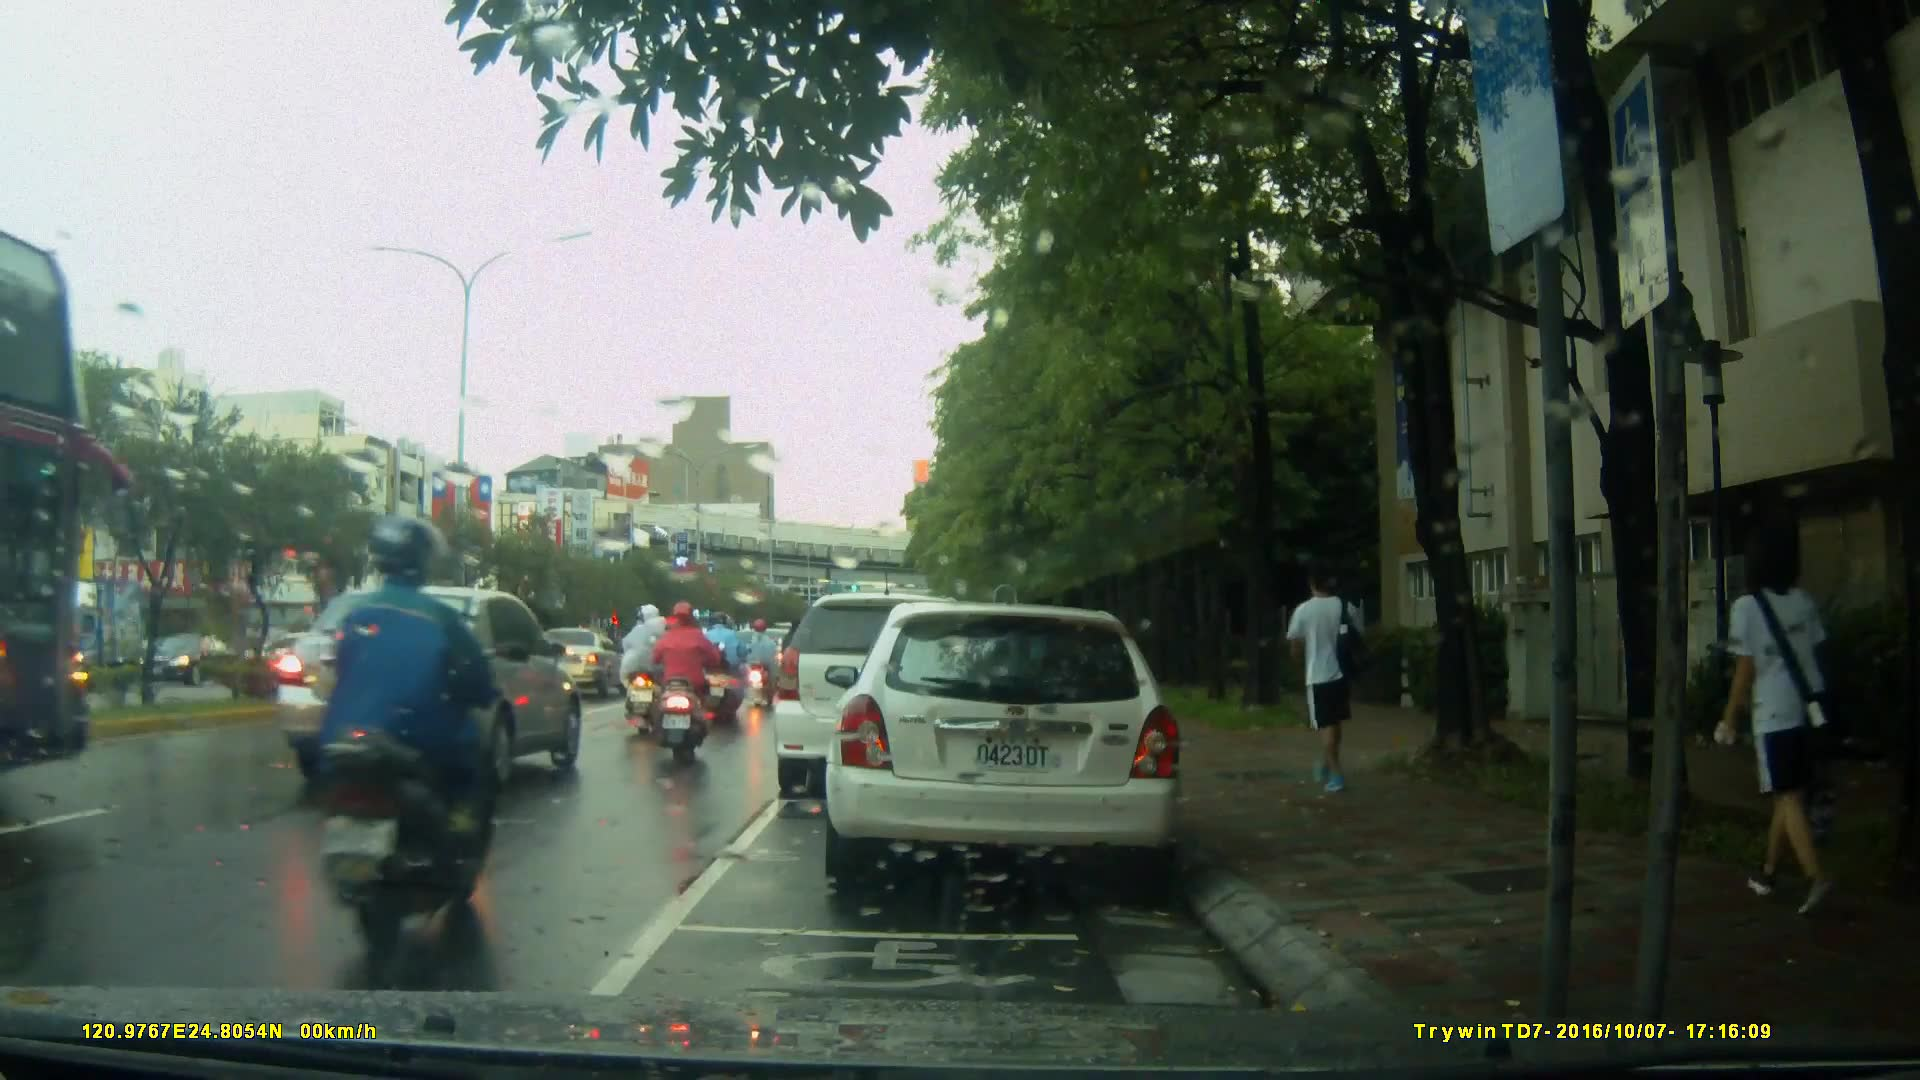pedestrian: (1714, 514, 1833, 921), (1290, 549, 1393, 814)
rider: (312, 514, 504, 959), (644, 603, 717, 771), (622, 603, 675, 741), (699, 610, 753, 721), (745, 615, 781, 712)
vehicle: (822, 604, 1188, 882), (274, 584, 585, 792), (774, 595, 995, 802), (525, 625, 631, 701), (144, 630, 241, 686)
